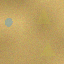person: (4, 17, 12, 26)
structure: (36, 6, 51, 23), (39, 42, 56, 56)
